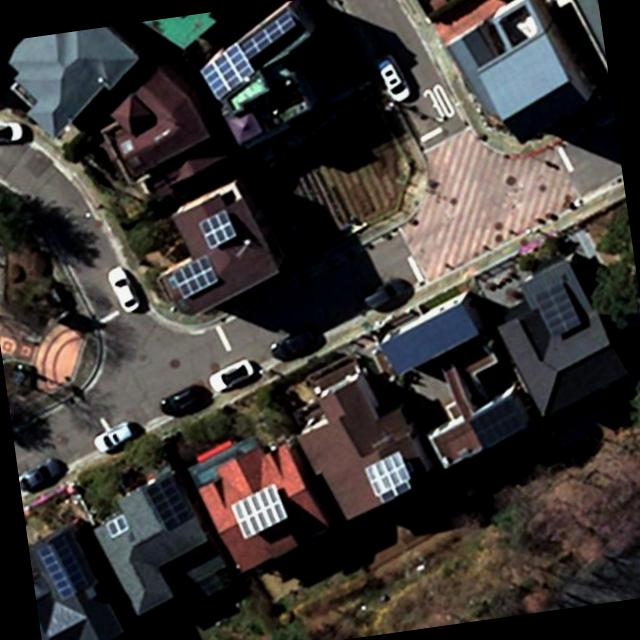solar: (192, 36, 260, 106), (224, 478, 296, 544), (35, 532, 96, 608), (466, 393, 534, 455), (354, 449, 420, 512), (232, 6, 306, 62), (142, 471, 197, 538), (532, 277, 584, 340), (167, 250, 224, 302), (194, 205, 244, 254), (102, 515, 130, 541)
